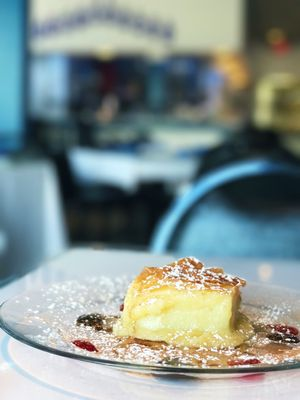pizza: (0, 150, 69, 285)
